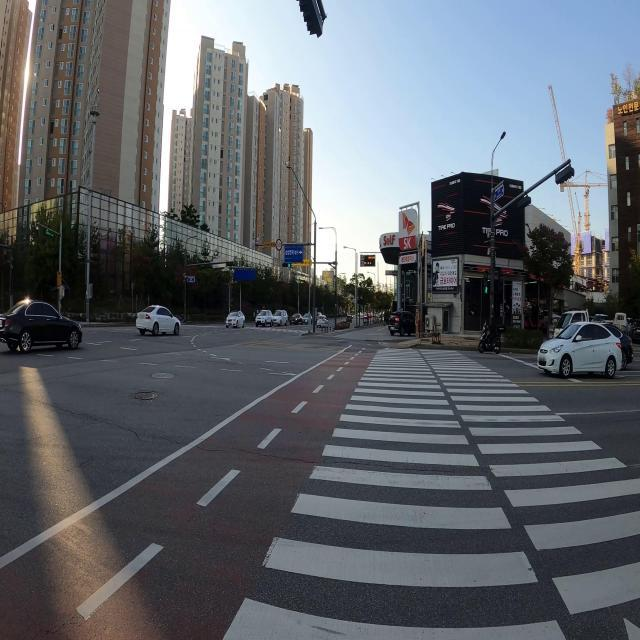crosswalk: (222, 344, 639, 638), (243, 325, 315, 335)
